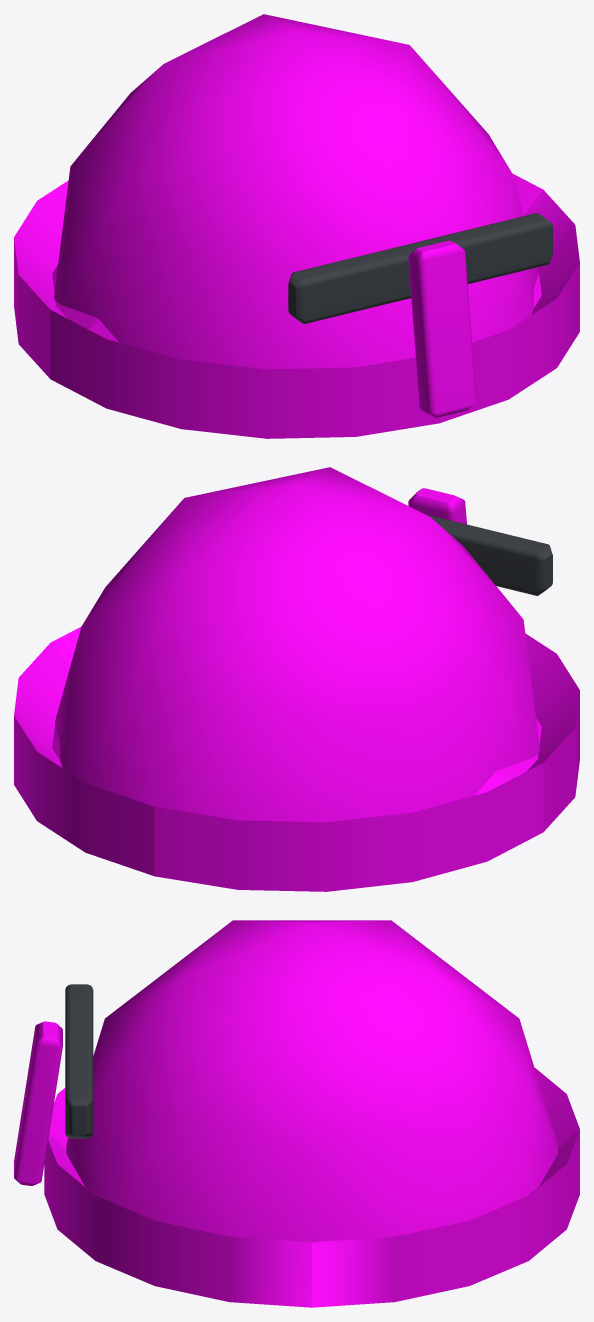
Rendered from objet_armure2_casque.glb.
3 views of the same model, one above another, from view 1: azimuth 30°, elevation 25°; view 2: azimuth 150°, elevation 25°; view 3: azimuth 270°, elevation 25° (orthographic). The views are drawn at different scales.
Visible parts, largest first — view 1: casque_teinte.002, casque_teinte_sombre.002; view 2: casque_teinte.002, casque_teinte_sombre.002; view 3: casque_teinte.002, casque_teinte_sombre.002.
Boxes of the visible parts, x1=… form: casque_teinte.002: x1=14, y1=14, x2=579, y2=438; casque_teinte_sombre.002: x1=288, y1=213, x2=552, y2=323; casque_teinte.002: x1=14, y1=467, x2=579, y2=891; casque_teinte_sombre.002: x1=425, y1=514, x2=552, y2=595; casque_teinte.002: x1=14, y1=920, x2=579, y2=1307; casque_teinte_sombre.002: x1=65, y1=984, x2=93, y2=1138.
Size of the model in its own units: 0.23 by 0.128 by 0.243.
